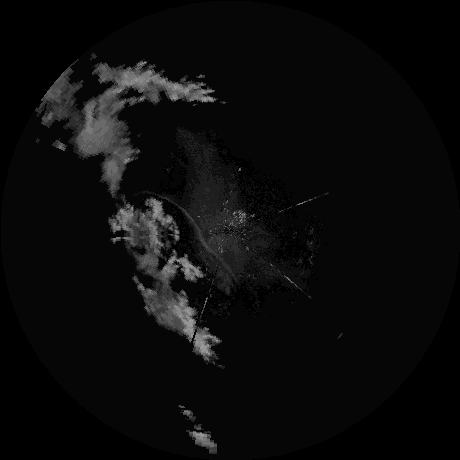frontgust: (157, 191, 235, 279)
